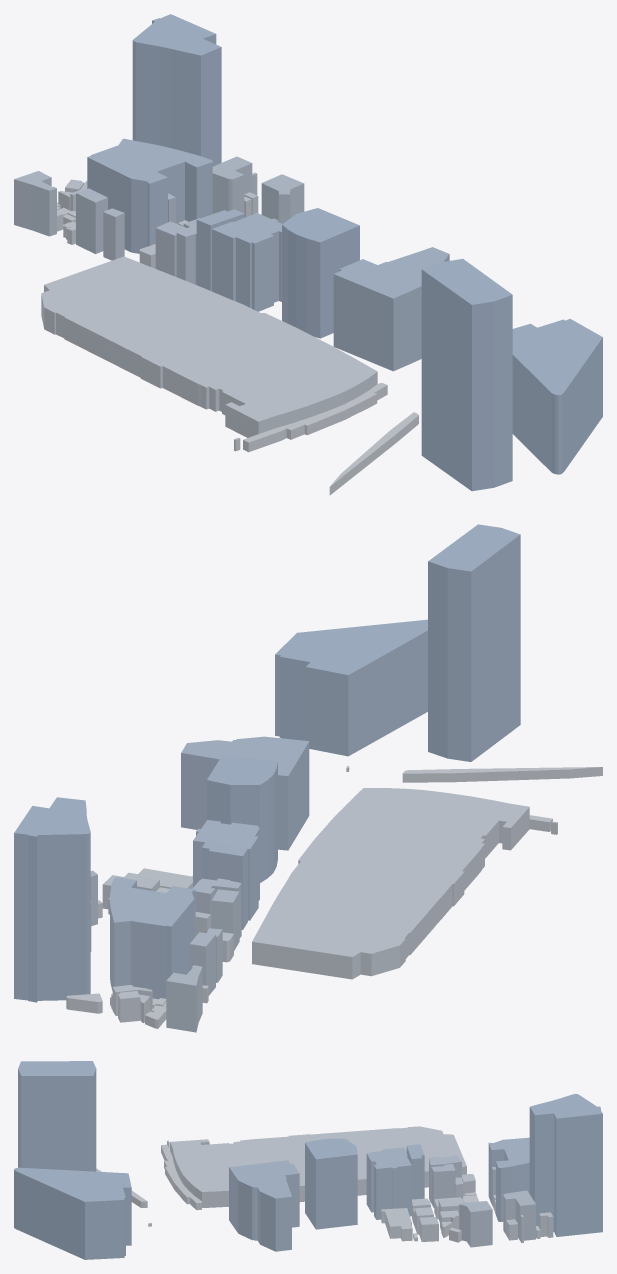
The picture shows the model from 3 angles, top to bottom: view 1: azimuth 30°, elevation 25°; view 2: azimuth 150°, elevation 25°; view 3: azimuth 270°, elevation 25°; orthographic projection. The views are drawn at different scales.
Bounding box in the file's own units: 258 × 139 × 546.
